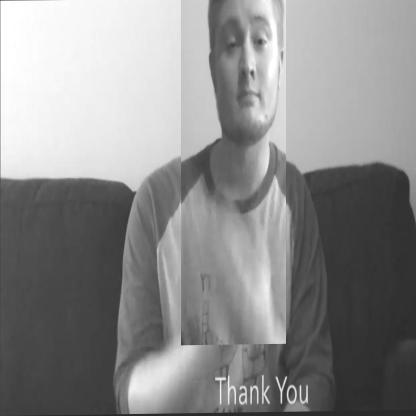ThankYou: (181, 0, 286, 346)
